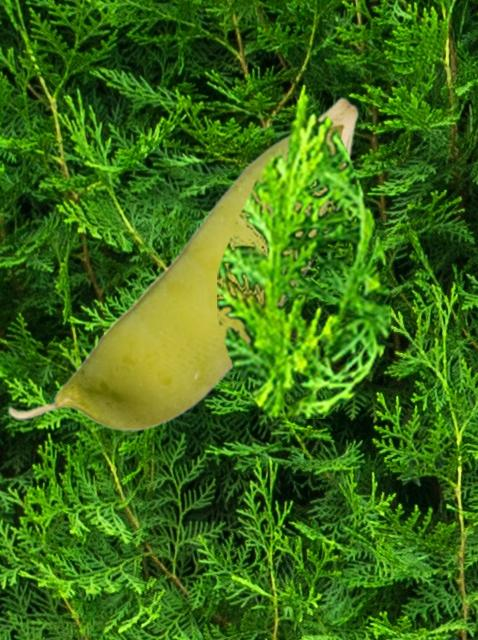pea: (7, 97, 358, 430)
